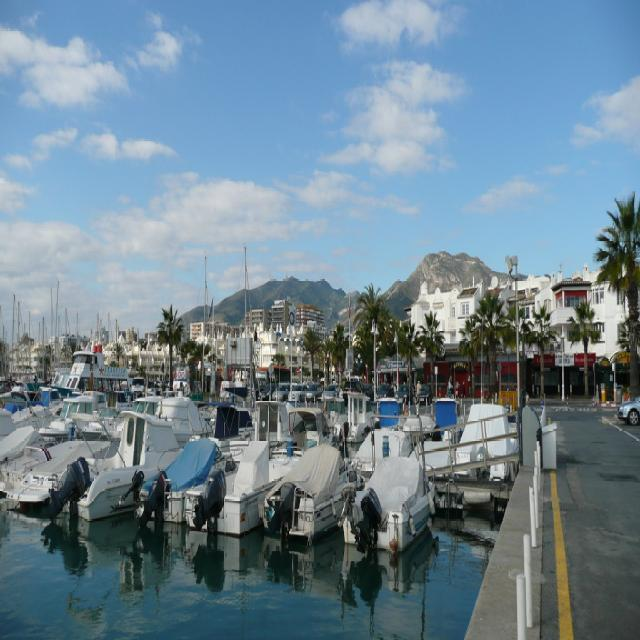Boat: (58, 410, 178, 520), (184, 426, 278, 550), (258, 434, 352, 543), (337, 454, 433, 554), (0, 434, 114, 514), (134, 428, 218, 527), (109, 385, 208, 463), (10, 388, 96, 452), (0, 403, 34, 460)
